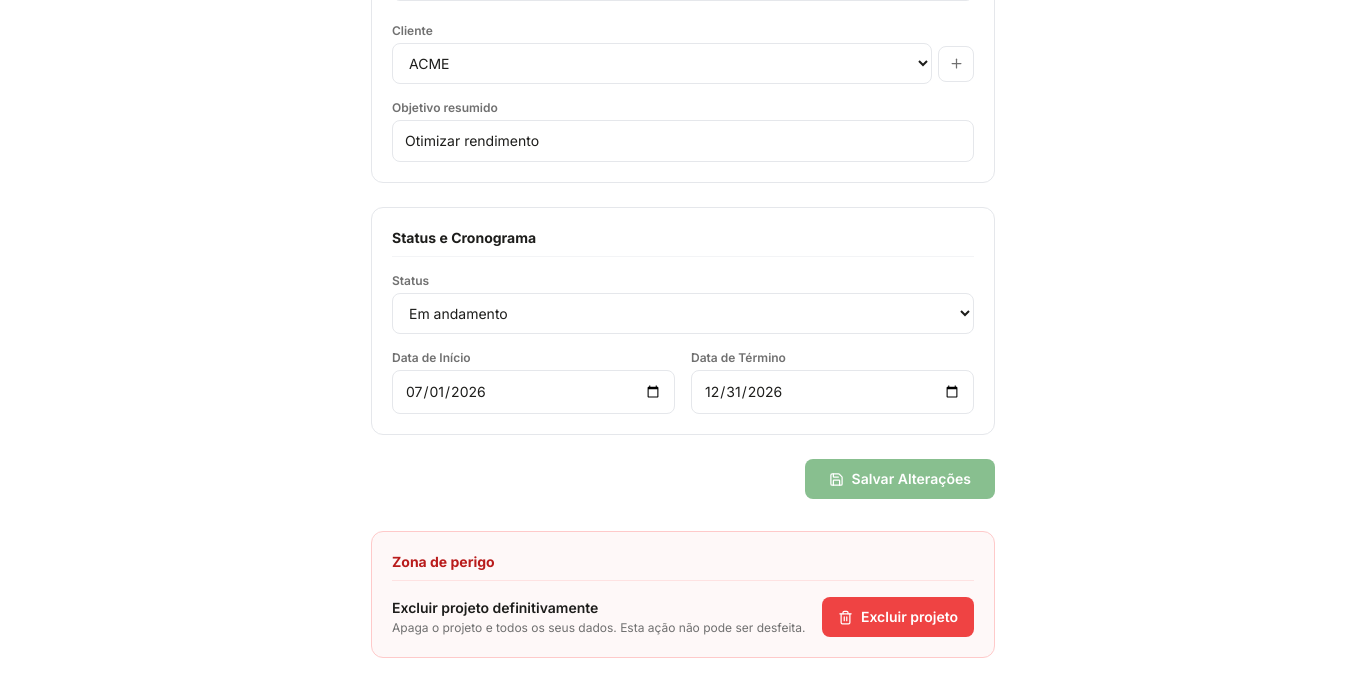
ProjectSettingsClient › should ask for confirmation before deleting the project
The image size is (1366, 690).
(page scrolled)
Click the button "Excluir projeto" at (898, 617), box x1=822 y1=597 x2=974 y2=637
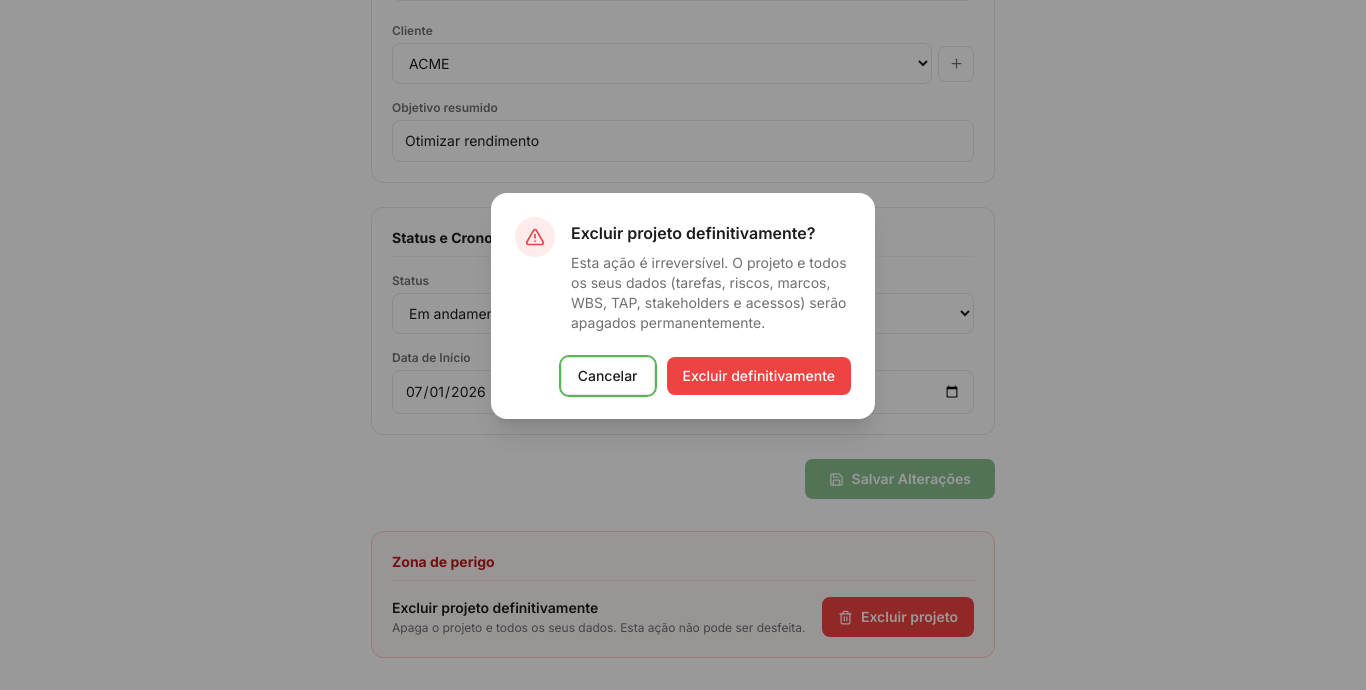
Expected: the heading "Excluir projeto definitivamente?" is shown, x1=571 y1=221 x2=851 y2=245
